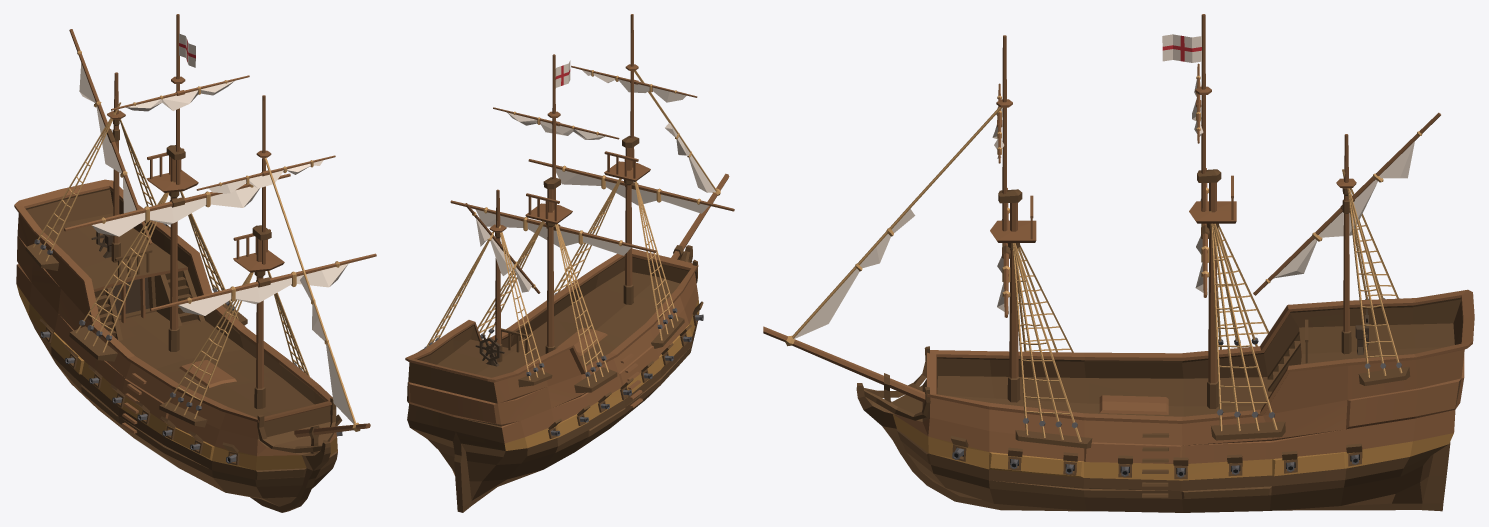
Rendered from pirates_ship-colonial-small.fbx.
The picture shows the model from 3 angles, left to right: view 1: azimuth 30°, elevation 25°; view 2: azimuth 150°, elevation 25°; view 3: azimuth 270°, elevation 25°; orthographic projection. The views are drawn at different scales.
Parts seen in each view (by area): view 1: pirates_ship_colonial_small; view 2: pirates_ship_colonial_small; view 3: pirates_ship_colonial_small.
Boxes of the visible parts, box(x1,y1,x2,y2) form: pirates_ship_colonial_small: box(14, 14, 376, 512); pirates_ship_colonial_small: box(405, 14, 734, 512); pirates_ship_colonial_small: box(763, 14, 1474, 512).
Bounding box in the file's own units: 84.64 × 154 × 200.
